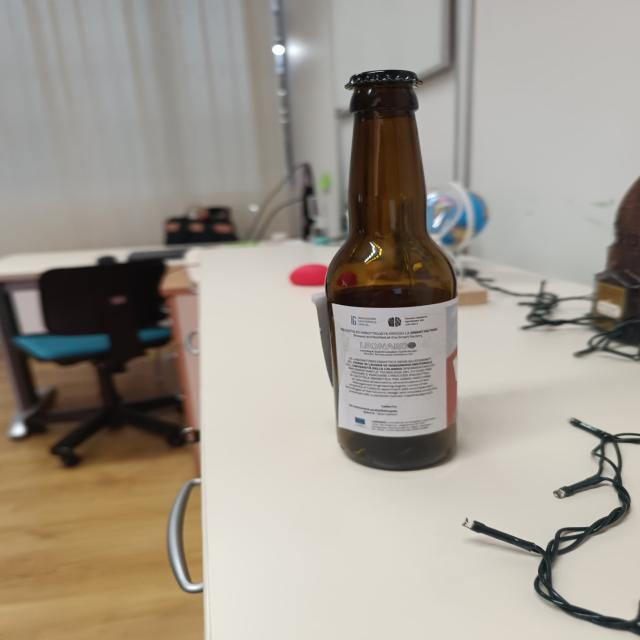Bottle: (321, 69, 462, 470)
Cap: (340, 69, 426, 93)
Label: (332, 301, 458, 436)
